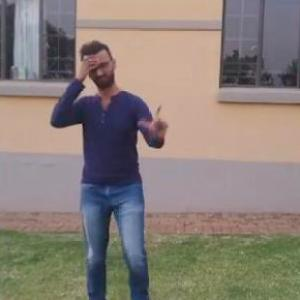land_hand: (134, 94, 174, 141)
